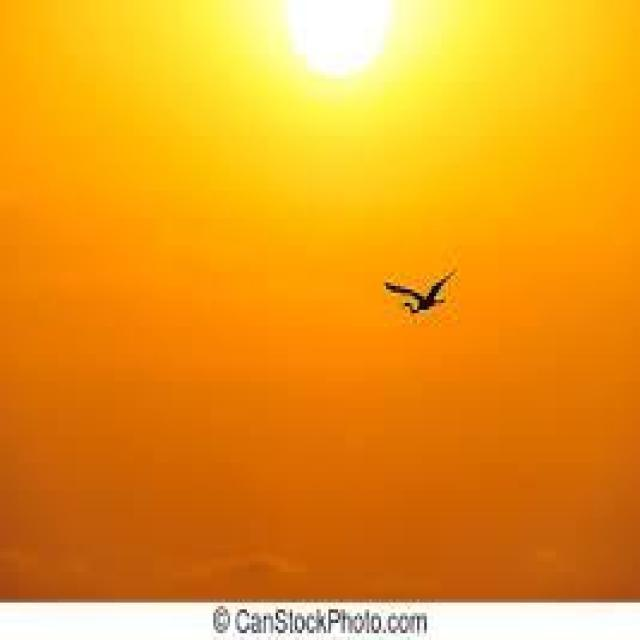bird: (382, 269, 458, 317)
